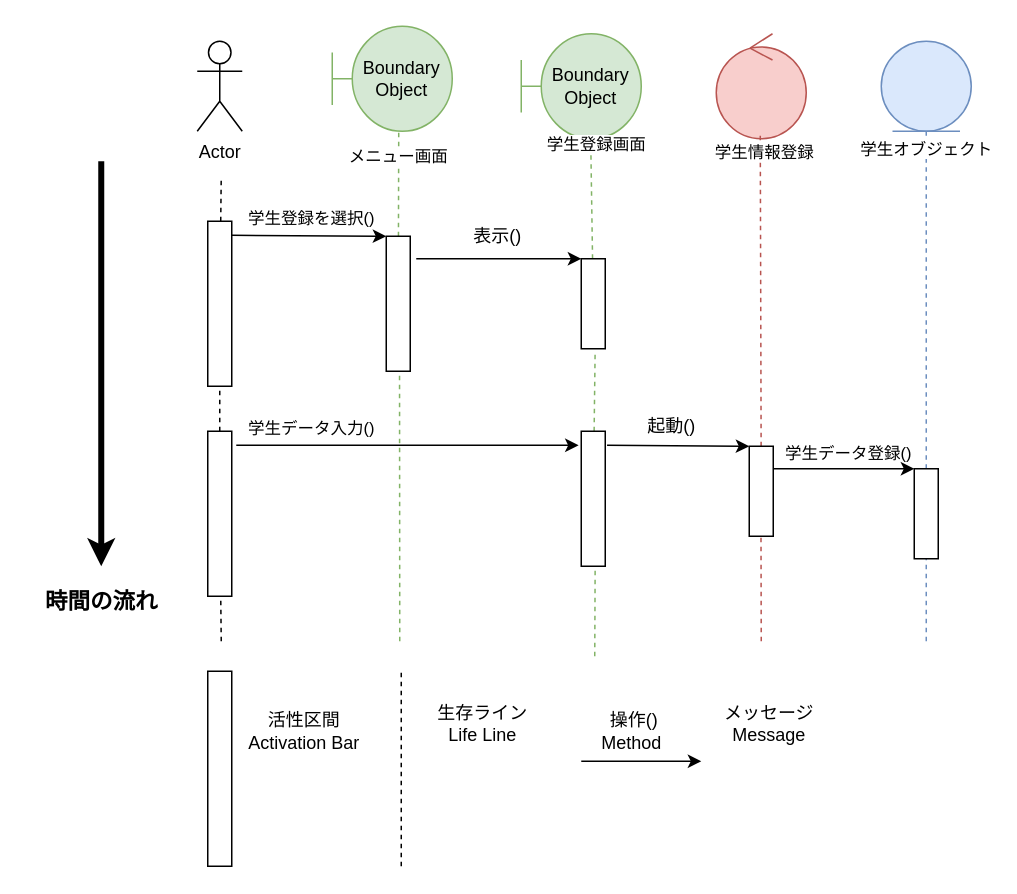
Some shapes in this 1017 by 894 pixel diagram are drawn without their labels. The centre of each missing label's shape, as x and y in pixels:
"Control Object" goes at (760,85).
"Entity Object" goes at (925,85).
